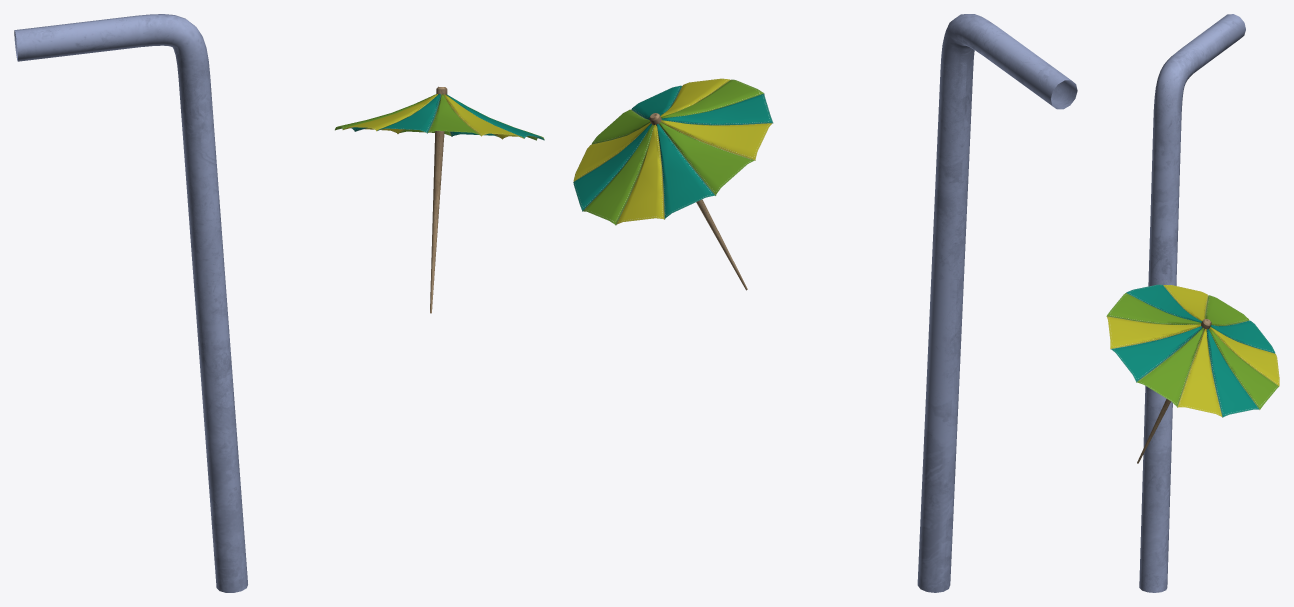
The model's file is Props_Vaso(1).fbx.
3 views of the same model, side by side, from view 1: azimuth 30°, elevation 25°; view 2: azimuth 150°, elevation 25°; view 3: azimuth 270°, elevation 25° (orthographic). The views are drawn at different scales.
Visible parts, largest first — view 1: Mesh8; view 2: Mesh8; view 3: Mesh8.
Boxes of the visible parts, box(x1,y1,x2,y2) form: Mesh8: box(14, 14, 544, 592); Mesh8: box(573, 14, 1077, 592); Mesh8: box(1106, 14, 1279, 592).
Bounding box in the file's own units: 1.28 × 1.42 × 0.4383.
